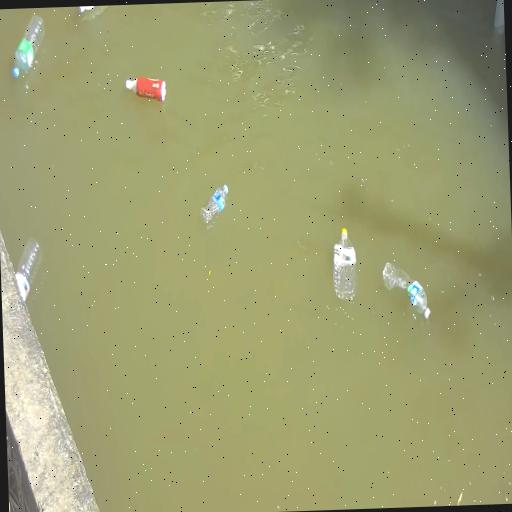plastic: (382, 263, 430, 319), (12, 15, 44, 78), (332, 228, 357, 304), (15, 238, 40, 302), (125, 77, 165, 103), (200, 185, 227, 223), (78, 6, 96, 12)
